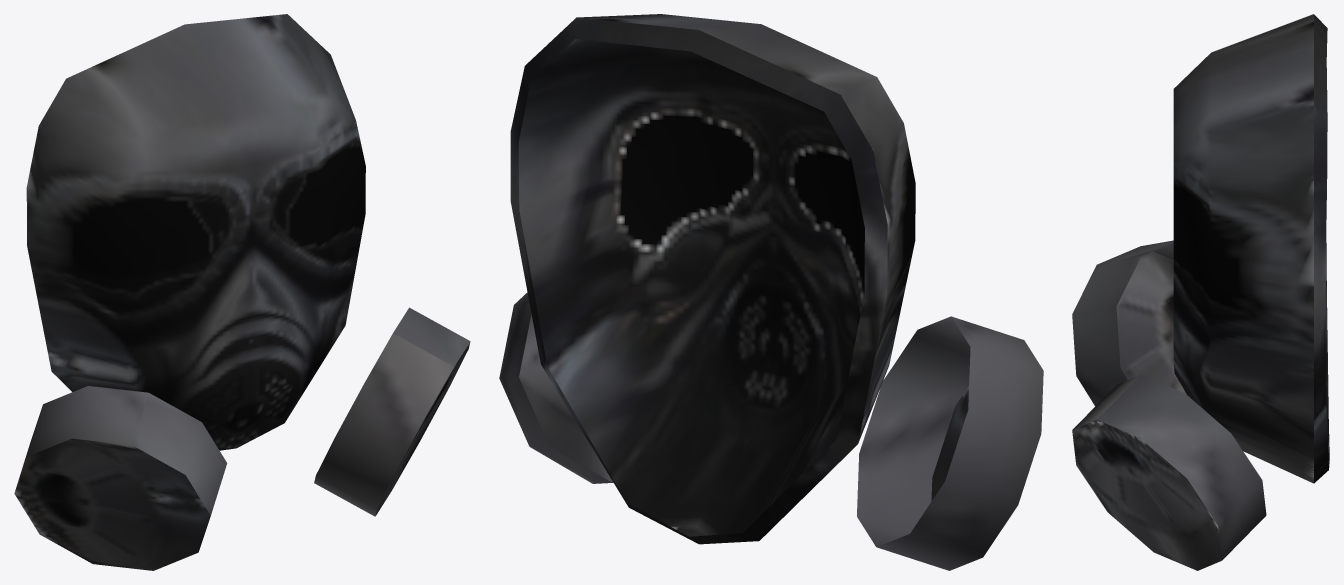
Rendered from gas_mask.FBX.
3 renders of one model, left to right at view 1: azimuth 30°, elevation 25°; view 2: azimuth 150°, elevation 25°; view 3: azimuth 270°, elevation 25°, orthographic. The views are drawn at different scales.
Visible parts, largest first — view 1: gas_mask; view 2: gas_mask; view 3: gas_mask.
Part boxes in pixels (<box>): gas_mask: <box>14,14,470,570</box>; gas_mask: <box>499,14,1043,570</box>; gas_mask: <box>1072,14,1329,570</box>.
Bounding box in the file's own units: 51.32 × 51 × 26.25.
